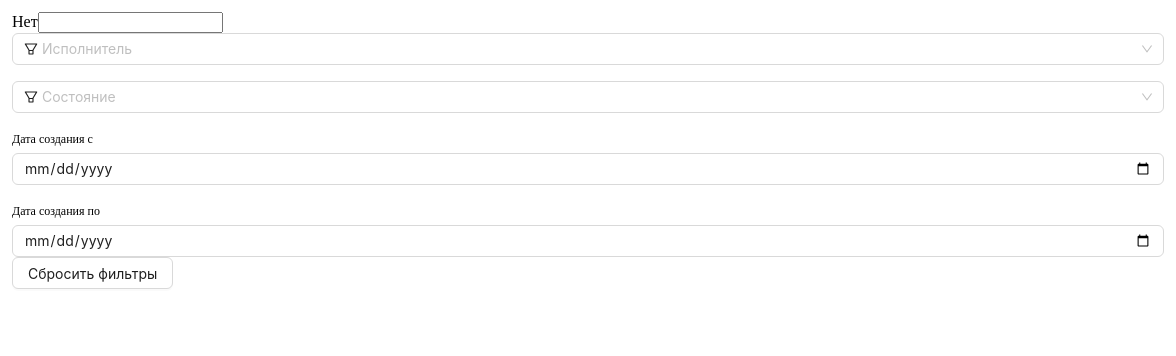
Test: мобильные фильтры применяются сразу, показывают ошибку периода и сбрасываются
The image size is (1176, 356).
Type "2026-10-25" into the date field named "Период с" at coordinates (588, 169), box 12,153 -> 1164,185
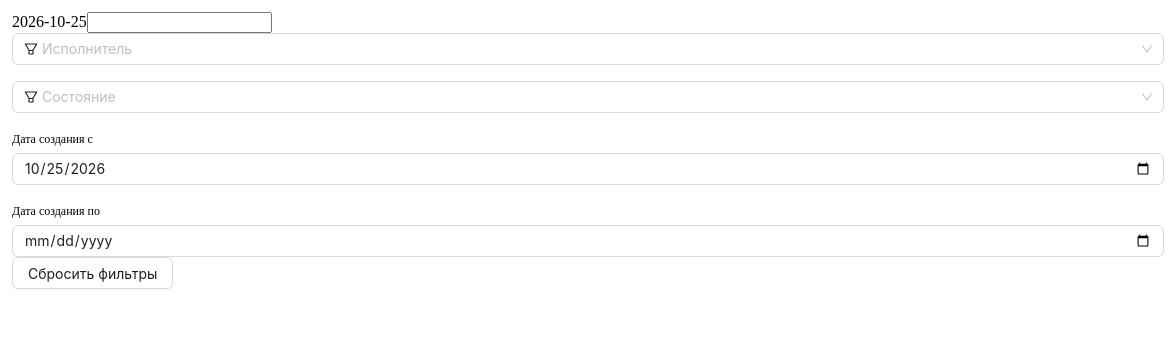
Result: the text named "Применённая дата" reads "2026-10-25" at 12,13 -> 87,30
Type "2026-10-24" into the date field named "Период по" at coordinates (588, 241), box 12,225 -> 1164,257
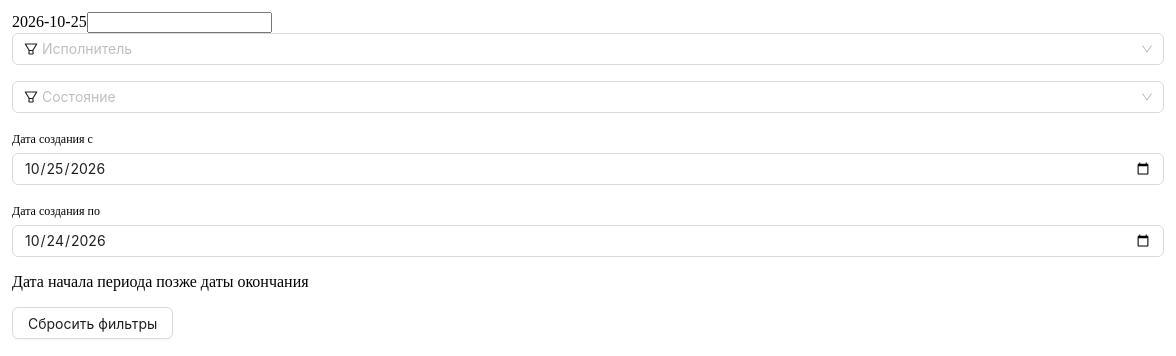
Result: the message reads "Дата начала периода позже даты окончания" at 12,273 -> 309,290
Click the button "Сбросить фильтры" at coordinates (93, 323), box 12,307 -> 173,339
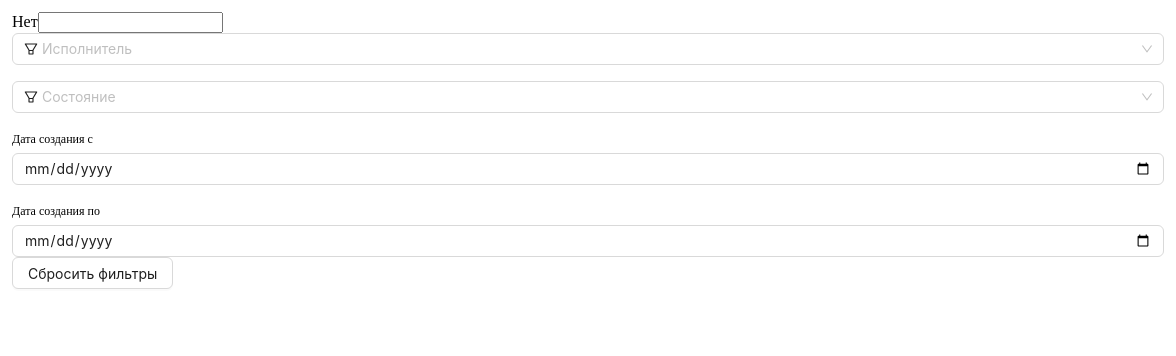
Result: the text named "Применённая дата" reads "Нет" at 12,13 -> 38,30
Result: the message "Дата начала периода позже даты окончания" is gone
